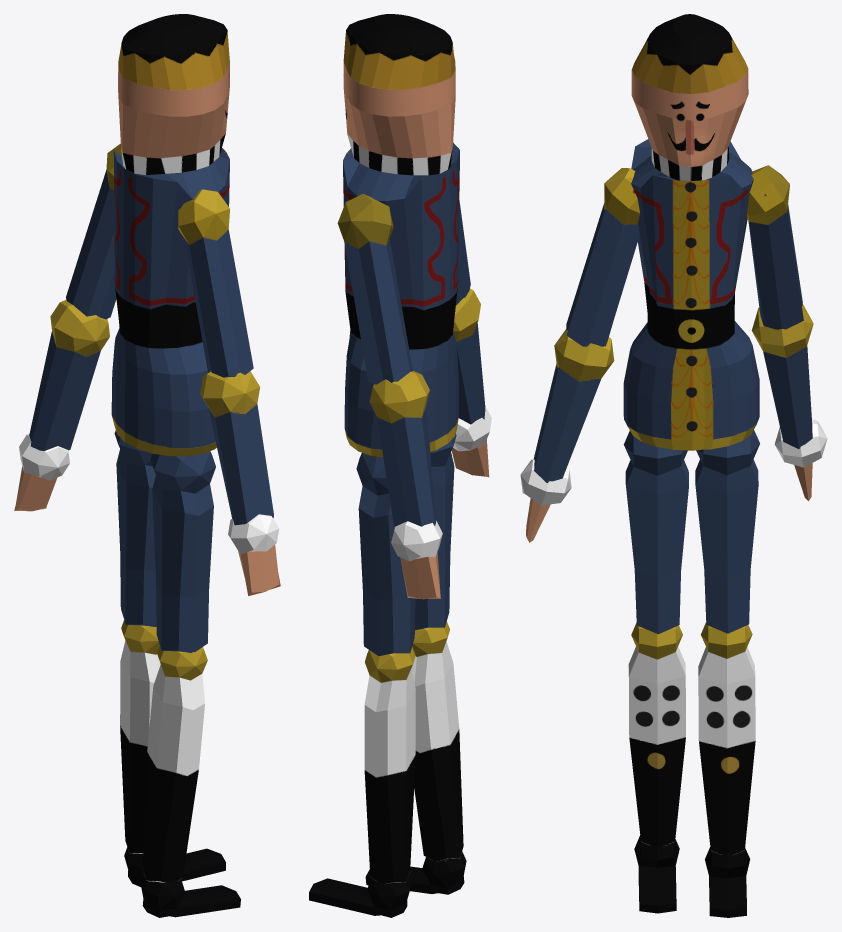
File: playerfixed.fbx
3 renders of one model, left to right at view 1: azimuth 30°, elevation 25°; view 2: azimuth 150°, elevation 25°; view 3: azimuth 270°, elevation 25°, orthographic.
Visible parts, largest first — view 1: mannejte1; view 2: mannejte1; view 3: mannejte1.
Boxes of the visible parts, x1,y1,x2,y2 form: mannejte1: [14, 14, 280, 917]; mannejte1: [309, 14, 491, 917]; mannejte1: [520, 14, 827, 917].
Bounding box in the file's own units: 174 × 870 × 280.
